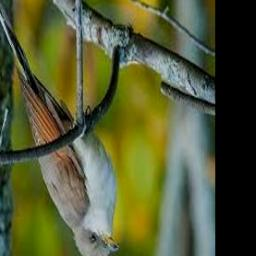Cuckoo: (0, 0, 118, 256)
